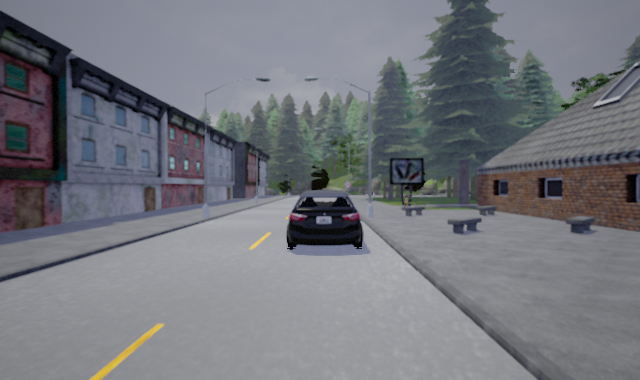vehicle: (283, 191, 365, 253)
